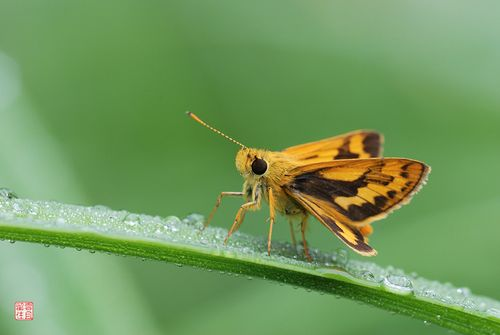Hesperiidae: (186, 107, 433, 261)
